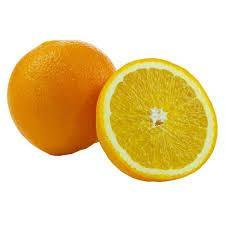non-mango: (95, 57, 218, 182), (6, 38, 116, 156)
